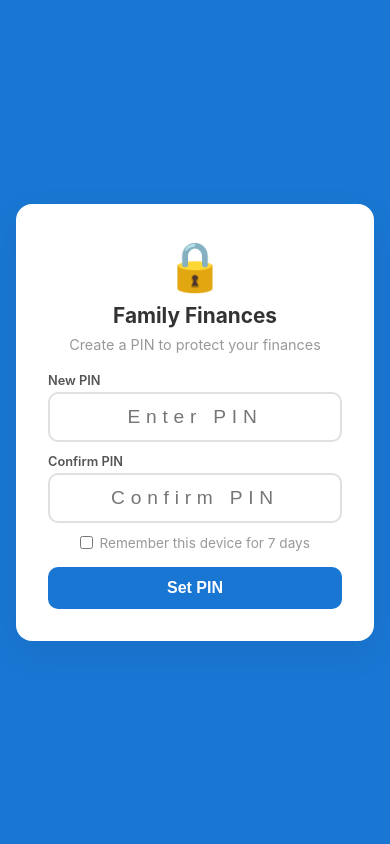
Test: PinGate › set PIN form › shows error when PINs do not match
In the password field with placeholder "Enter PIN": (195, 416) x1=48 y1=392 x2=342 y2=442, type "1234"
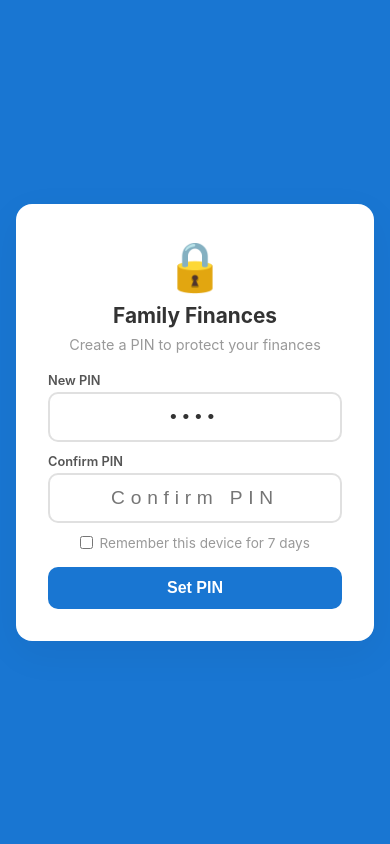
In the password field with placeholder "Confirm PIN": (195, 498) x1=48 y1=472 x2=342 y2=522, type "5678"
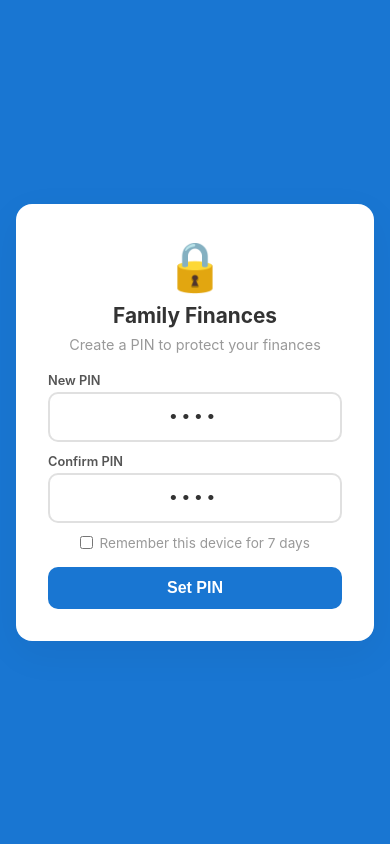
Submit the form, box x1=48 y1=336 x2=342 y2=608
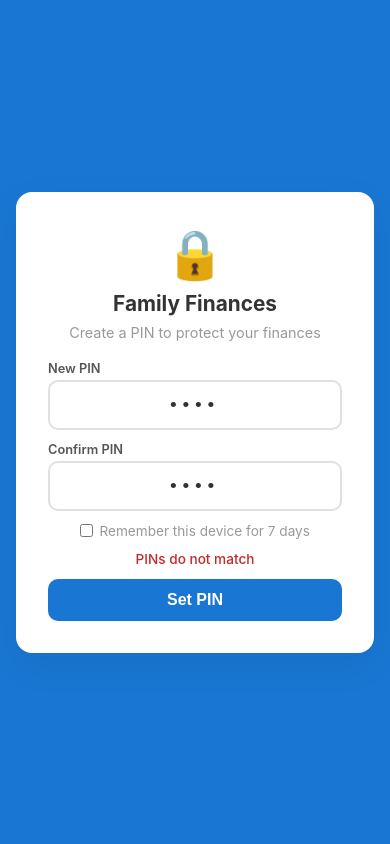
Now the text "PINs do not match" is shown, box x1=136 y1=550 x2=254 y2=566
